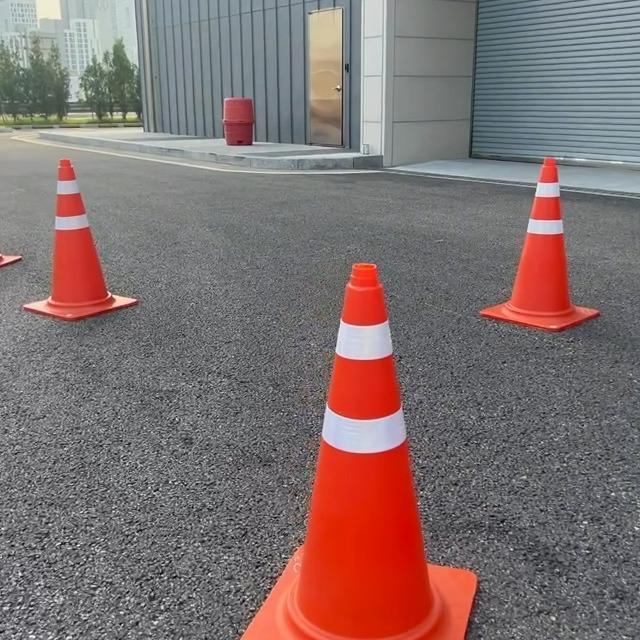fallen_object: (179, 243, 465, 640), (449, 140, 638, 411), (9, 142, 142, 367), (0, 228, 17, 267)
